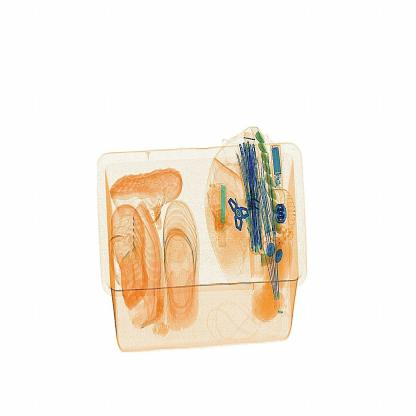pliers: (213, 177, 234, 248)
